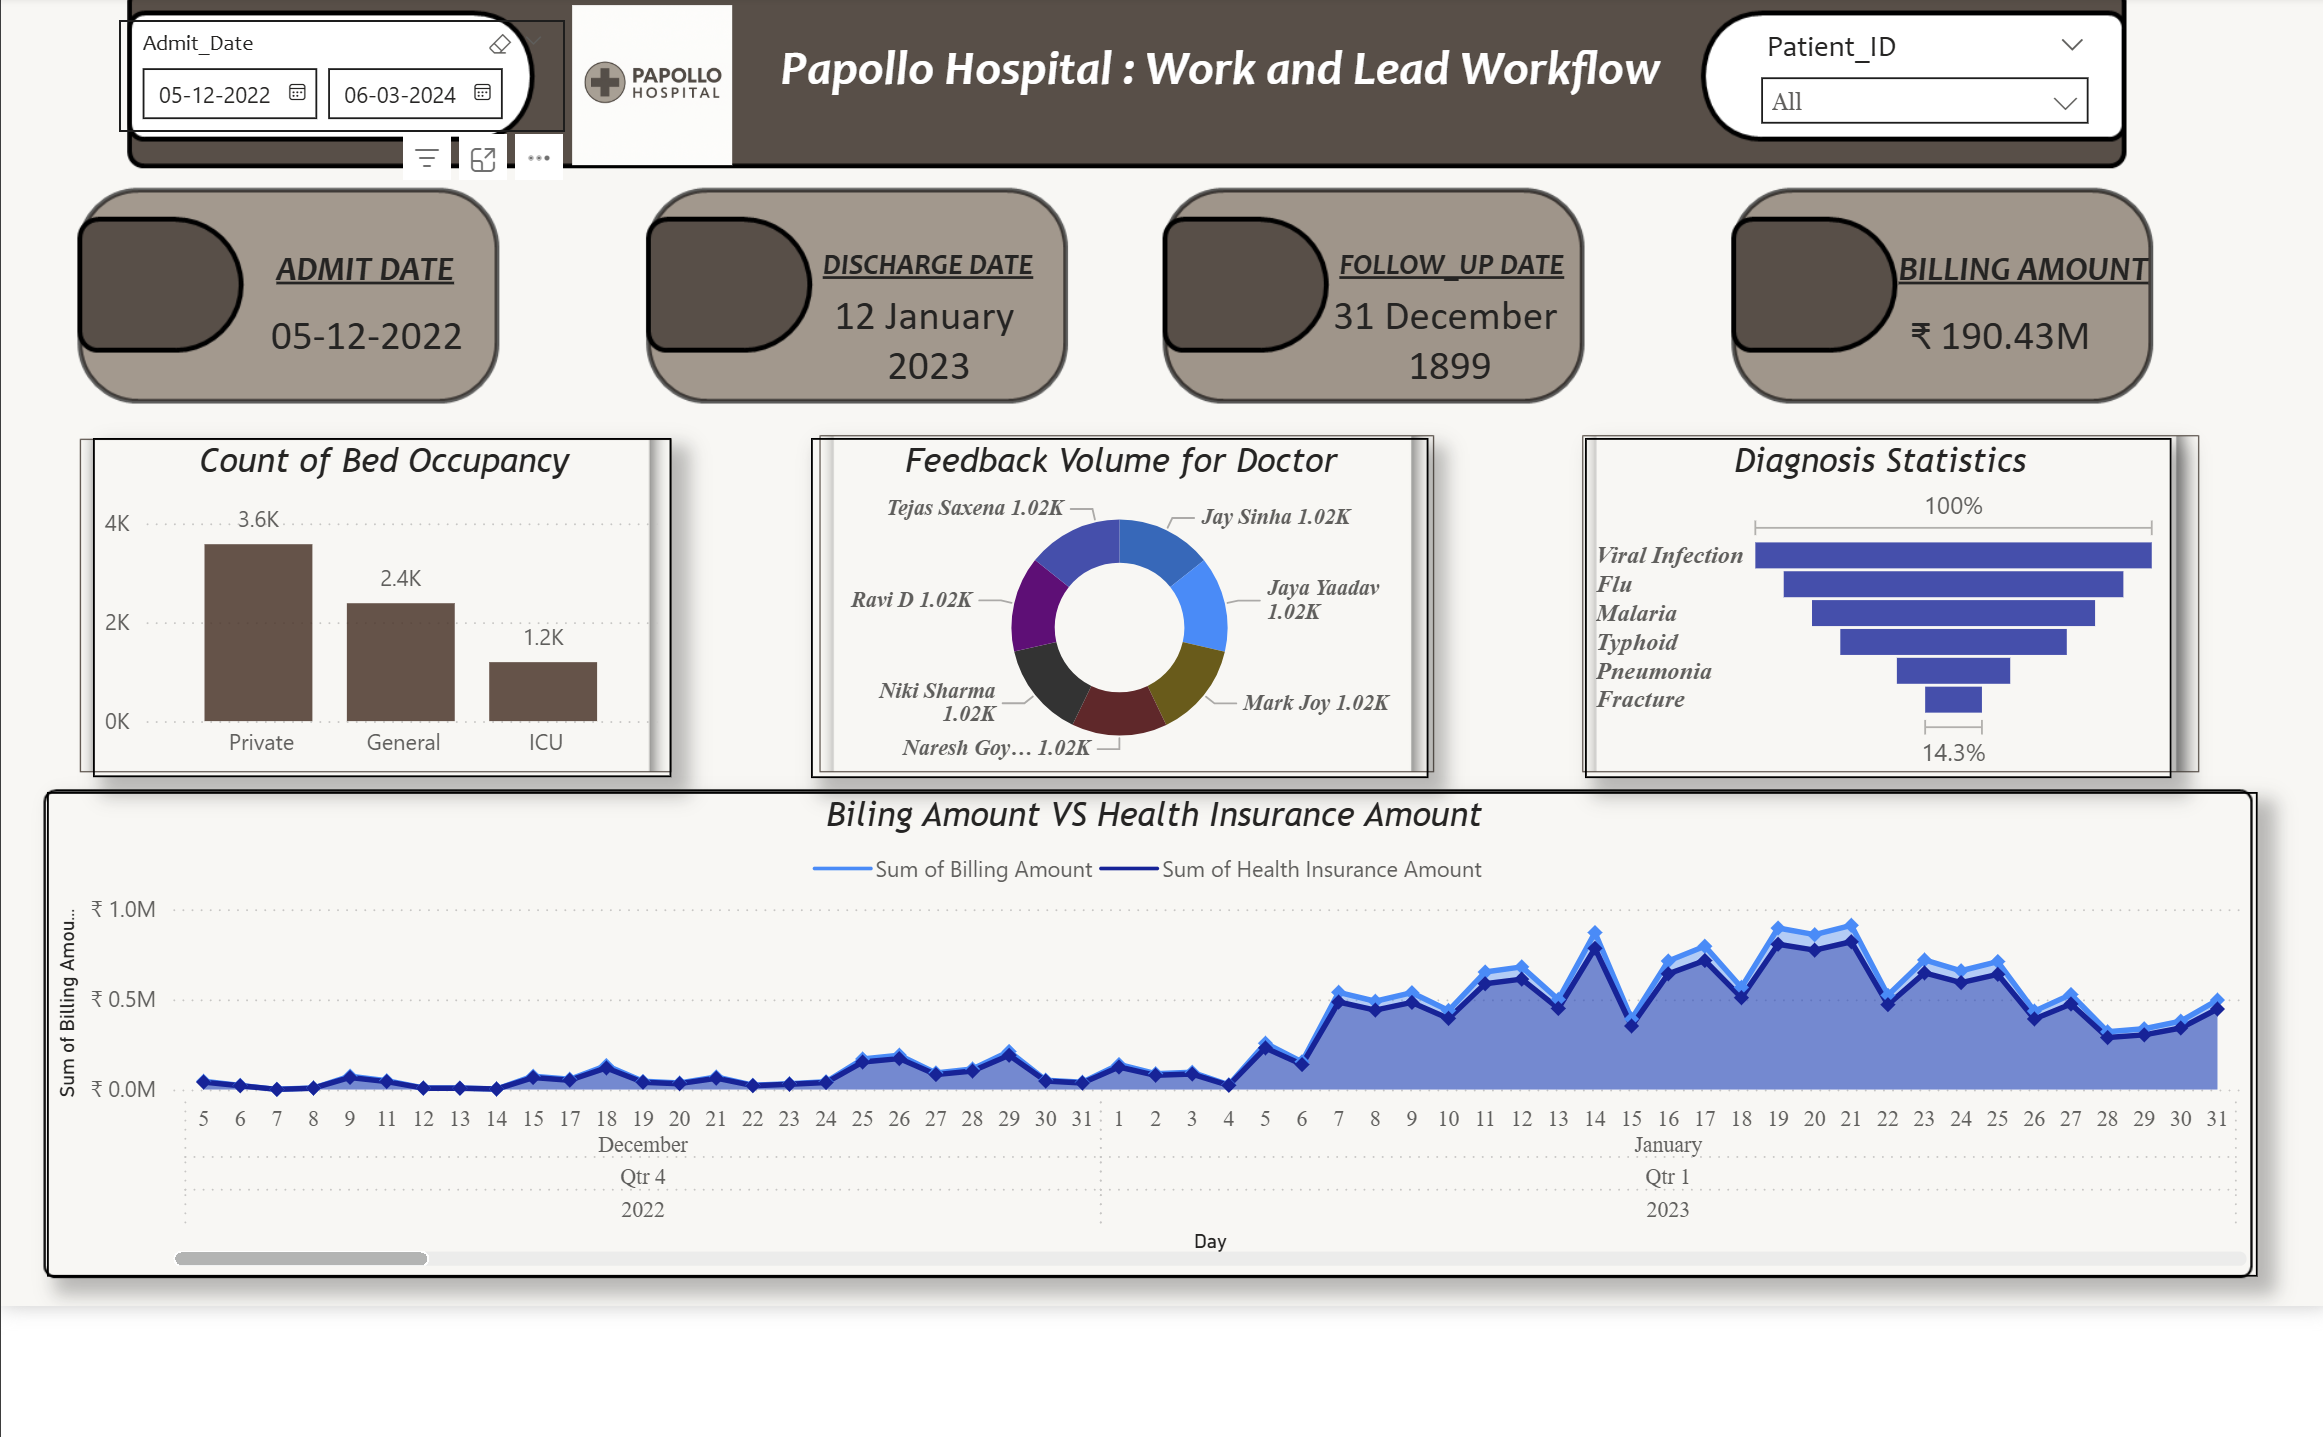

The page's visual inventory and layout, read from the dashboard file:
{"tool":"powerbi","page":{"name":"Page 1","canvas":[1280,720],"ordinal":0},"visuals":[{"type":"image","box":[232.2,0,252.2,97.8],"z":0},{"type":"textbox","box":[421.1,0,498.9,97.8],"z":1000},{"type":"slicer","fields":{"Values":["Sheet1.Patient_ID"]},"box":[957.8,13.3,200,61.1],"z":2000},{"type":"slicer","fields":{"Values":["Sheet1.Admit_Date"]},"box":[64.4,13.3,245.6,61.1],"z":3000},{"type":"card","fields":{"Values":["Sheet1.Admit_Date"]},"box":[134.4,151.1,134.4,72.2],"z":4000},{"type":"card","fields":{"Values":["Sheet1.Discharge_Date"]},"box":[431.1,141.9,158.4,90.2],"z":5000},{"type":"card","fields":{"Values":["Sheet1.Followup Date"]},"box":[711.5,141.9,170.4,90.2],"z":6000},{"type":"textbox","box":[133.3,133.3,134.4,40],"z":7000},{"type":"textbox","box":[431.1,133.1,157.3,40.7],"z":8000},{"type":"textbox","box":[700,133.3,194.4,40],"z":9000},{"type":"textbox","box":[1028.9,133.3,165.6,40],"z":10000},{"type":"card","fields":{"Values":["Sheet1.Billing Amount"]},"box":[1028.9,151.1,140,72.2],"z":11000},{"type":"columnChart","title":"Count of Bed Occupancy","fields":{"Category":["Sheet1.Bed_Occupancy"],"Y":["Sheet1.Bed_Occupancy"]},"box":[51.1,243.3,317.8,186.7],"z":12000},{"type":"donutChart","title":"Feedback Volume for Doctor","fields":{"Category":["Sheet1.Doctor"],"Y":["Sheet1.Doctor"]},"box":[445.2,242.9,339.3,186.9],"z":13000},{"type":"funnel","title":"Diagnosis Statistics","fields":{"Category":["Sheet1.Diagnosis"],"Y":["Sheet1.Diagnosis"]},"box":[871.4,242.9,322.6,186.9],"z":14000},{"type":"lineChart","title":"Biling Amount VS Health Insurance Amount","fields":{"Y":["Sheet1.Billing Amount","Sheet1.Health Insurance Amount"],"Category":["Sheet1.Admit_Date.Variation.Date Hierarchy.Year","Sheet1.Admit_Date.Variation.Date Hierarchy.Quarter","Sheet1.Admit_Date.Variation.Date Hierarchy.Month","Sheet1.Admit_Date.Variation.Date Hierarchy.Day"]},"box":[25,438.1,1215.5,266.7],"z":15000}]}

Visuals, with their boxes in screenshot pixels (x1, y1, x2, y2):
image: <box>416,6,867,181</box>
textbox: <box>754,6,1647,181</box>
slicer - Sheet1.Patient_ID: <box>1714,30,2072,139</box>
slicer - Sheet1.Admit_Date: <box>115,30,555,139</box>
card - Sheet1.Admit_Date: <box>241,276,481,406</box>
card - Sheet1.Discharge_Date: <box>772,260,1055,421</box>
card - Sheet1.Followup Date: <box>1273,260,1578,421</box>
textbox: <box>239,245,479,316</box>
textbox: <box>772,244,1053,317</box>
textbox: <box>1253,245,1601,316</box>
textbox: <box>1841,245,2138,316</box>
card - Sheet1.Billing Amount: <box>1841,276,2092,406</box>
"Count of Bed Occupancy" columnChart: <box>91,441,660,776</box>
"Feedback Volume for Doctor" donutChart: <box>797,441,1404,775</box>
"Diagnosis Statistics" funnel: <box>1560,441,2137,775</box>
"Biling Amount VS Health Insurance Amount" lineChart: <box>45,790,2220,1267</box>
